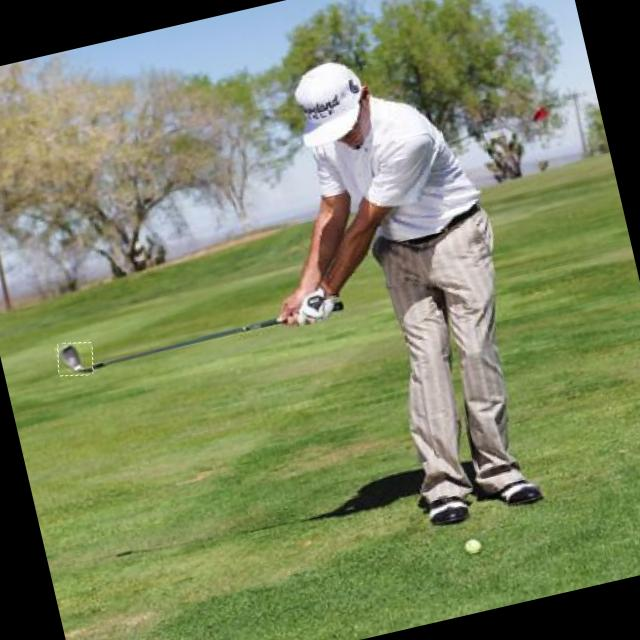club head: (53, 338, 97, 380)
